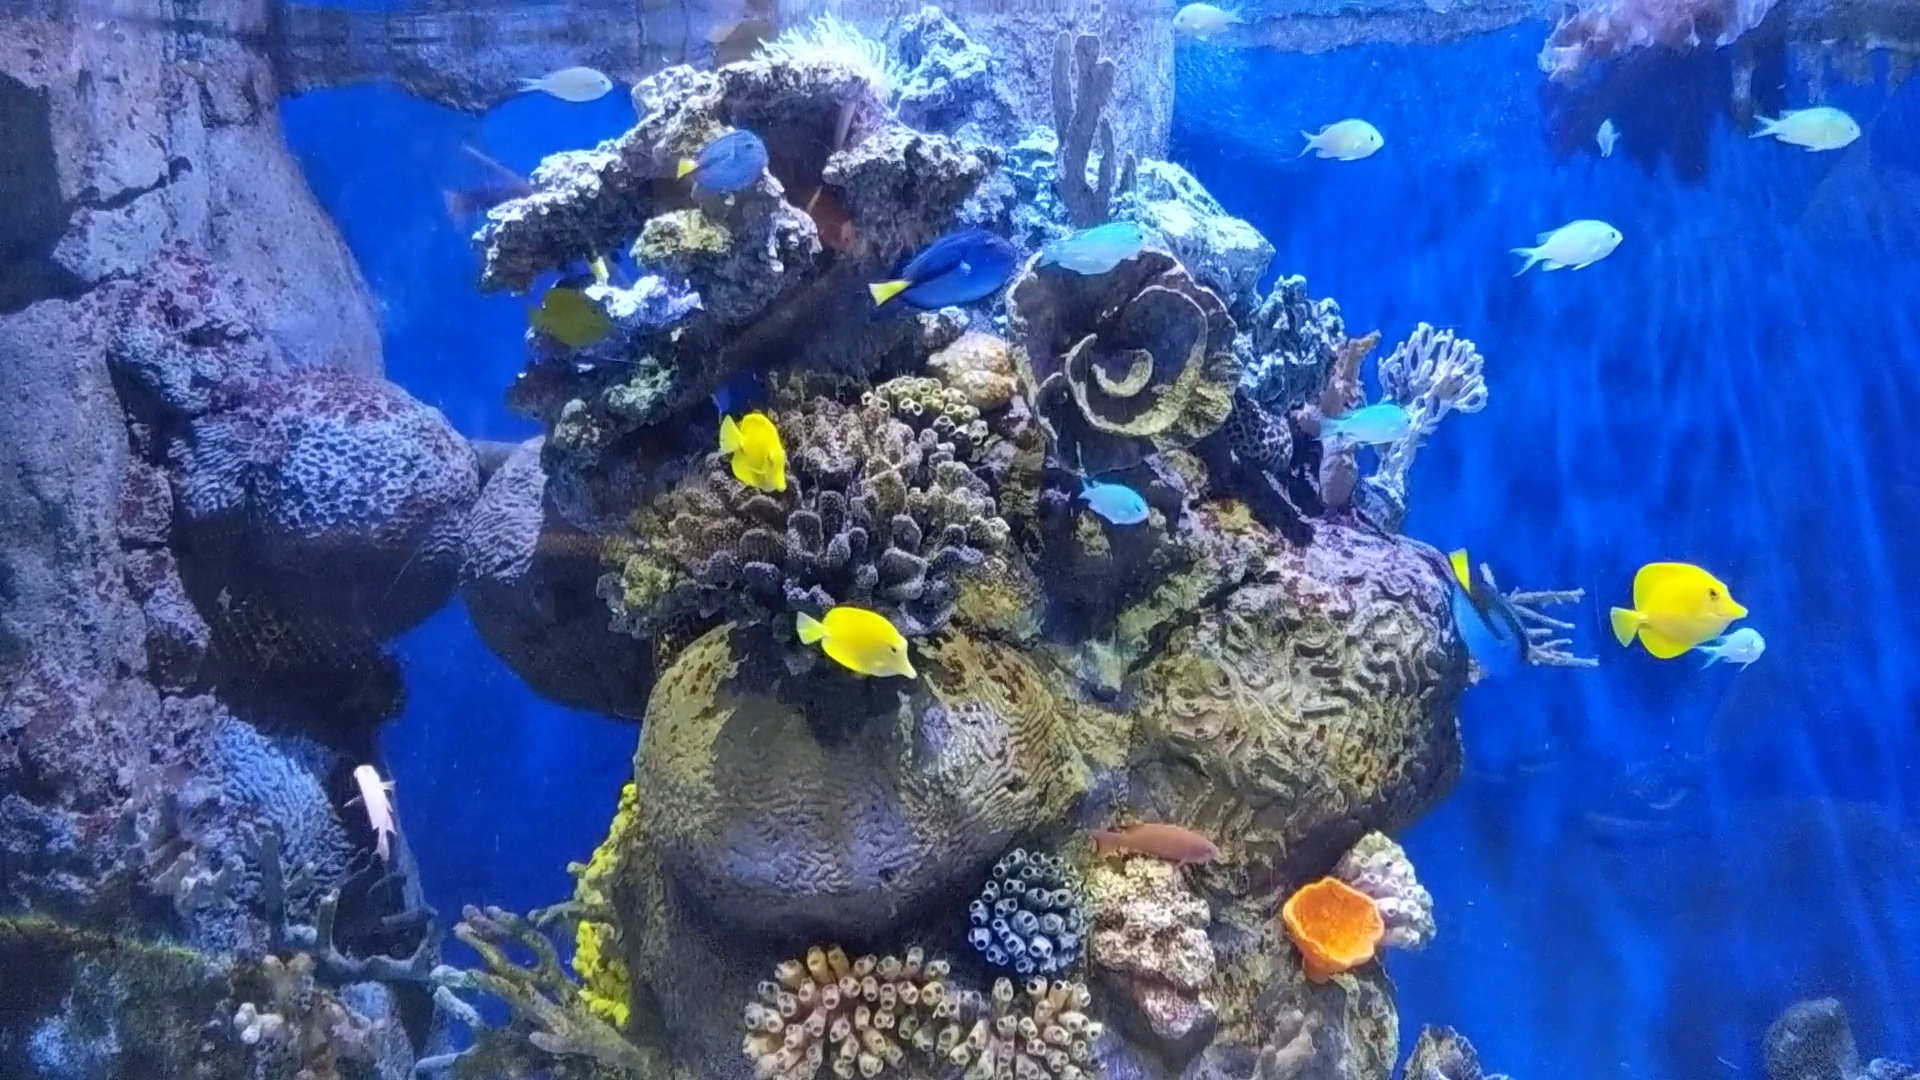blue tang surgeonfish: (1439, 542, 1543, 684), (866, 228, 1023, 313), (669, 129, 781, 199)
damselfish: (1506, 215, 1629, 291), (1033, 225, 1156, 277), (1309, 396, 1423, 451), (1749, 105, 1862, 156), (1044, 212, 1153, 261), (510, 62, 616, 105), (1073, 475, 1156, 529), (1295, 117, 1389, 160), (1698, 621, 1775, 670), (1171, 0, 1249, 45), (1586, 119, 1621, 164)
saddle butterfly fish: (1602, 551, 1754, 659), (791, 597, 919, 678), (707, 404, 799, 506), (526, 278, 629, 353)
